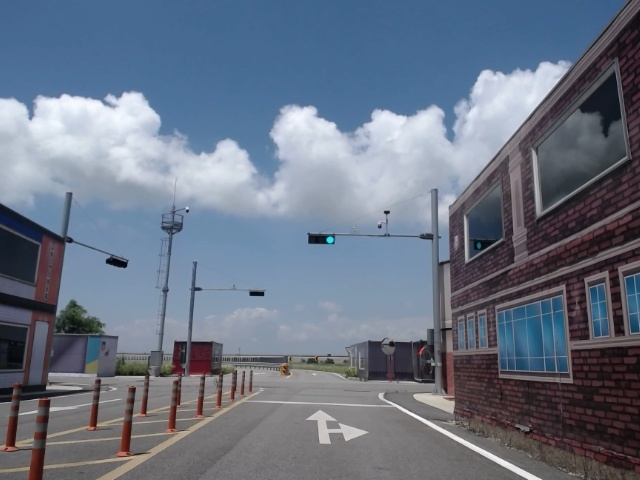green_3: (307, 235, 334, 243)
